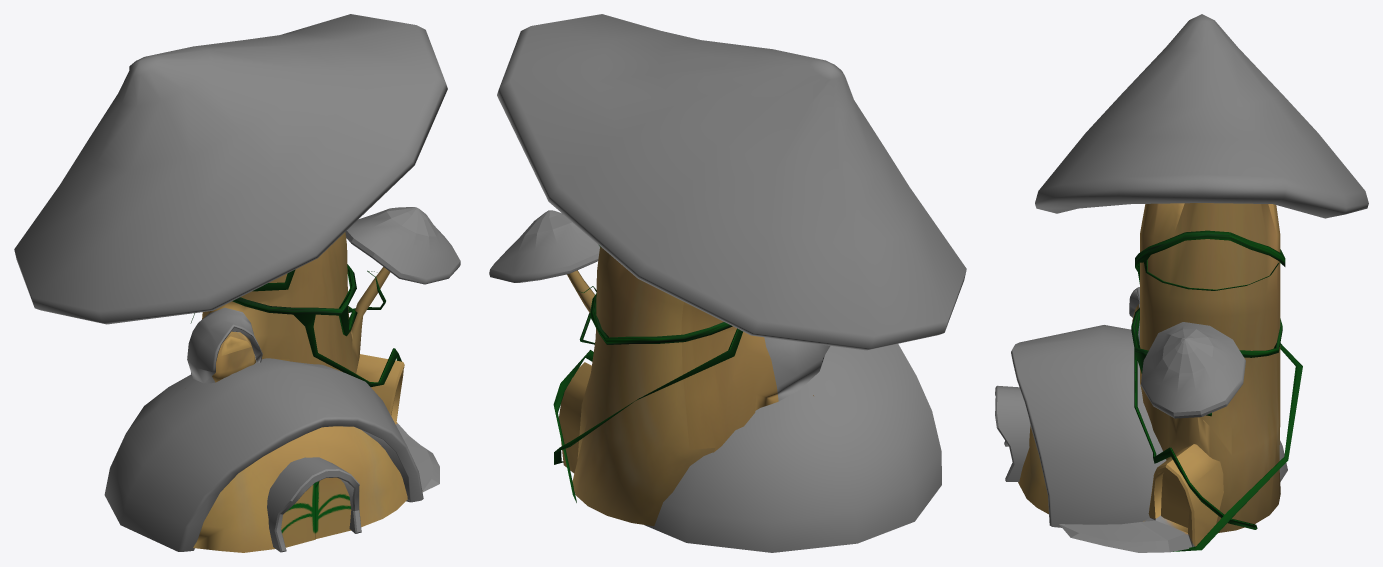
File: mushroom_gray.fbx
3 views of the same model, side by side, from view 1: azimuth 30°, elevation 25°; view 2: azimuth 150°, elevation 25°; view 3: azimuth 270°, elevation 25° (orthographic). The views are drawn at different scales.
Parts seen in each view (by area): view 1: polySurface4; view 2: polySurface4; view 3: polySurface4.
Part boxes in pixels (left/top/right/bottom): polySurface4: left=14, top=14, right=460, bottom=552; polySurface4: left=489, top=14, right=966, bottom=552; polySurface4: left=995, top=14, right=1368, bottom=552.
Size of the model in its own units: 67.7 by 67.44 by 54.2.
